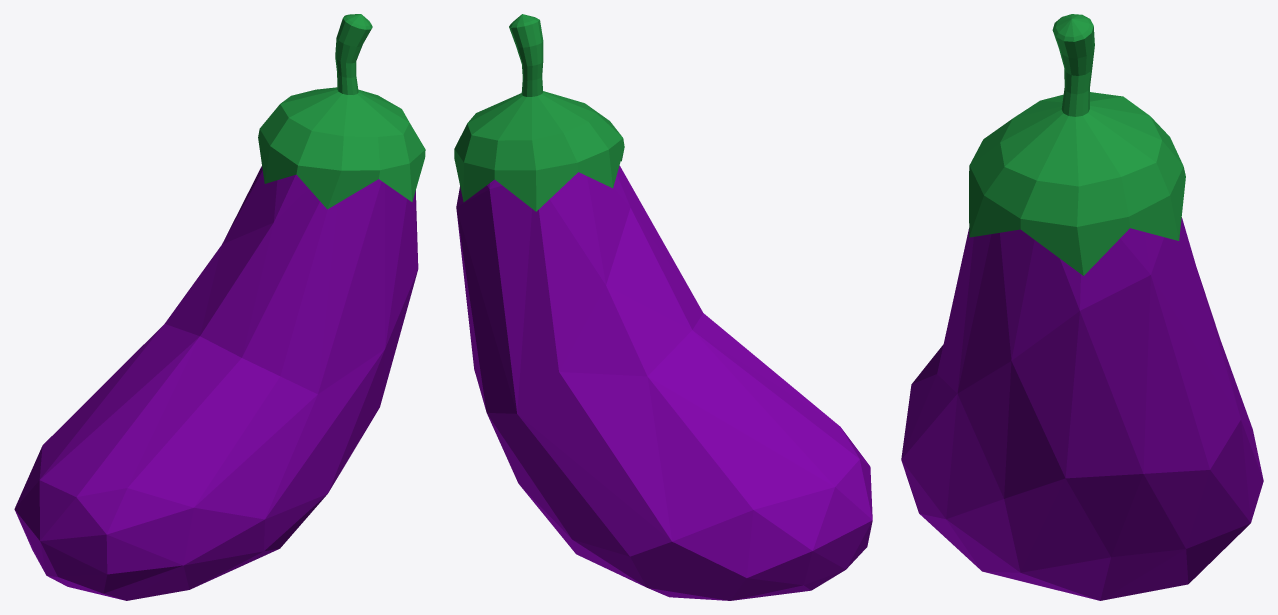
Rendered from Eggplant_0.fbx.
3 views of the same model, side by side, from view 1: azimuth 30°, elevation 25°; view 2: azimuth 150°, elevation 25°; view 3: azimuth 270°, elevation 25° (orthographic). The views are drawn at different scales.
Parts seen in each view (by area): view 1: Cylinder; view 2: Cylinder; view 3: Cylinder.
Part boxes in pixels (x1,y1,x2,y2): Cylinder: (14,14,425,600); Cylinder: (454,14,872,600); Cylinder: (901,14,1263,600).
Size of the model in its own units: 242 by 491 by 393.
